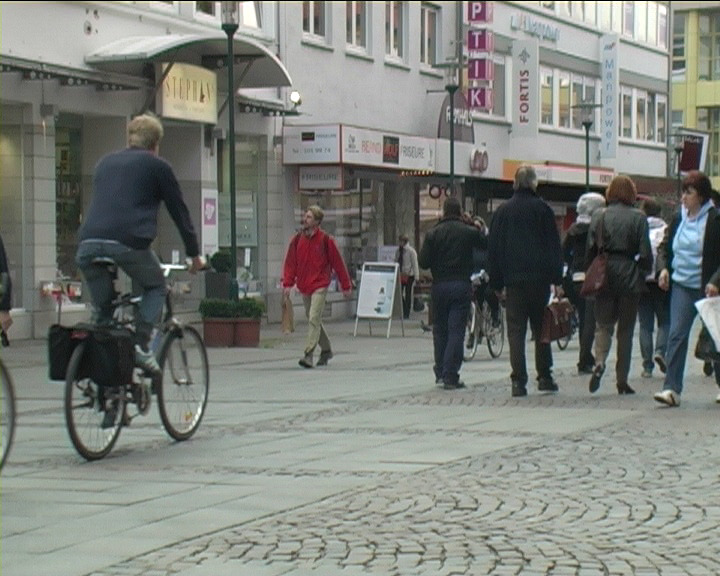deflection: (288, 201, 337, 255)
undeflect: (96, 103, 174, 198)
